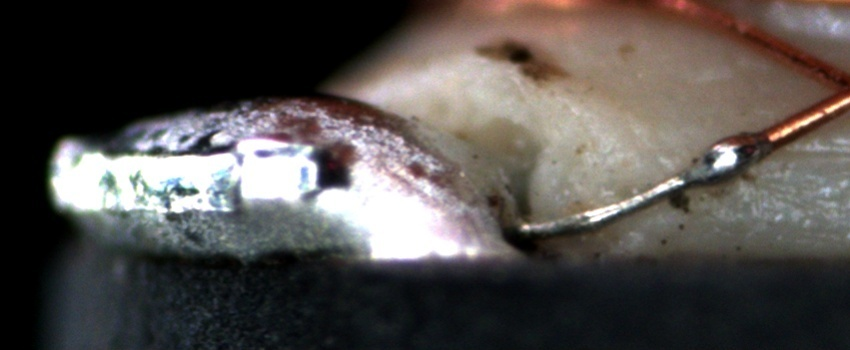CL: (808, 53, 850, 121)
DL: (775, 122, 849, 177)
TB: (696, 132, 768, 181)
TS: (518, 135, 766, 236)
TTCW: (513, 108, 813, 239)
